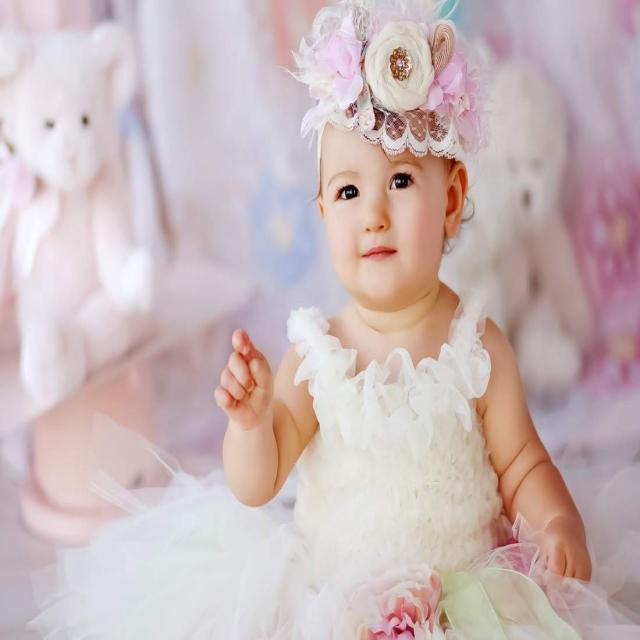non-dog: (213, 1, 594, 631)
